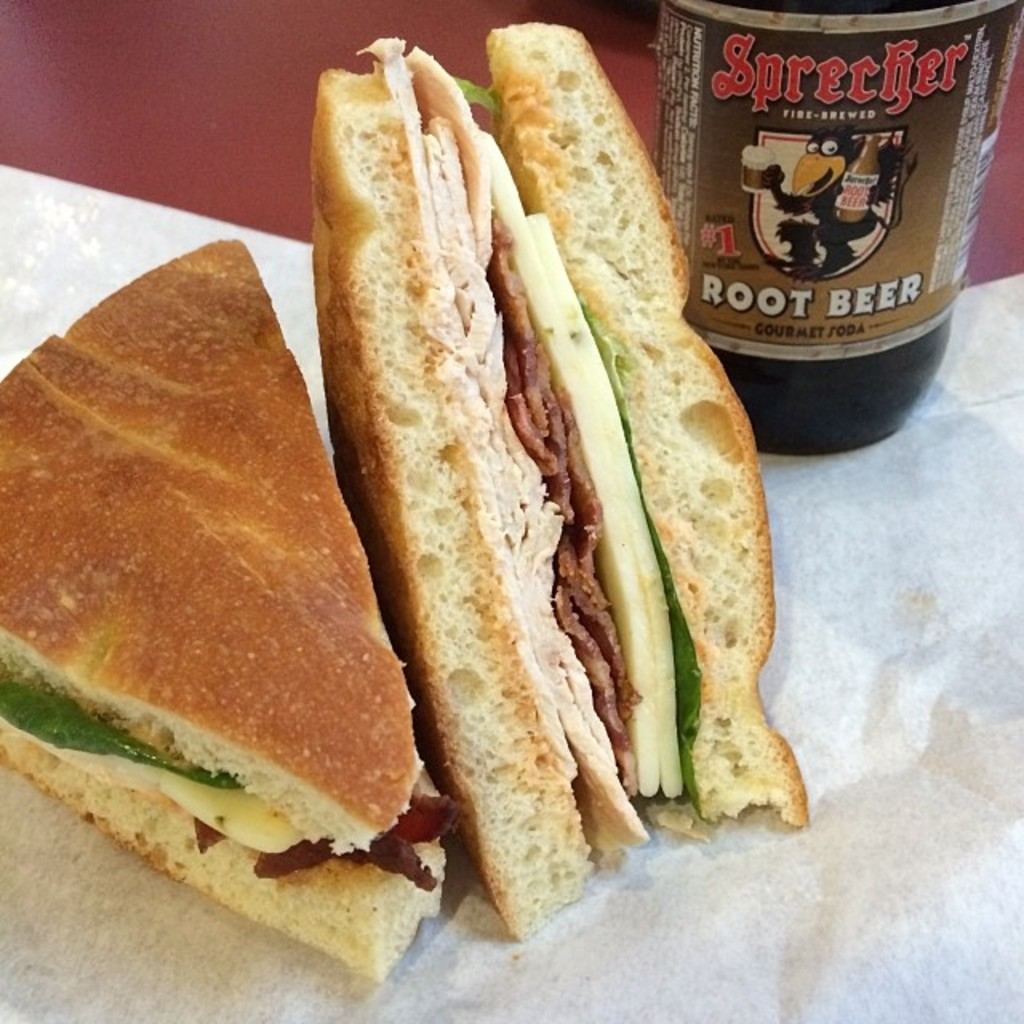sandwich: (309, 21, 808, 938), (0, 230, 443, 982)
